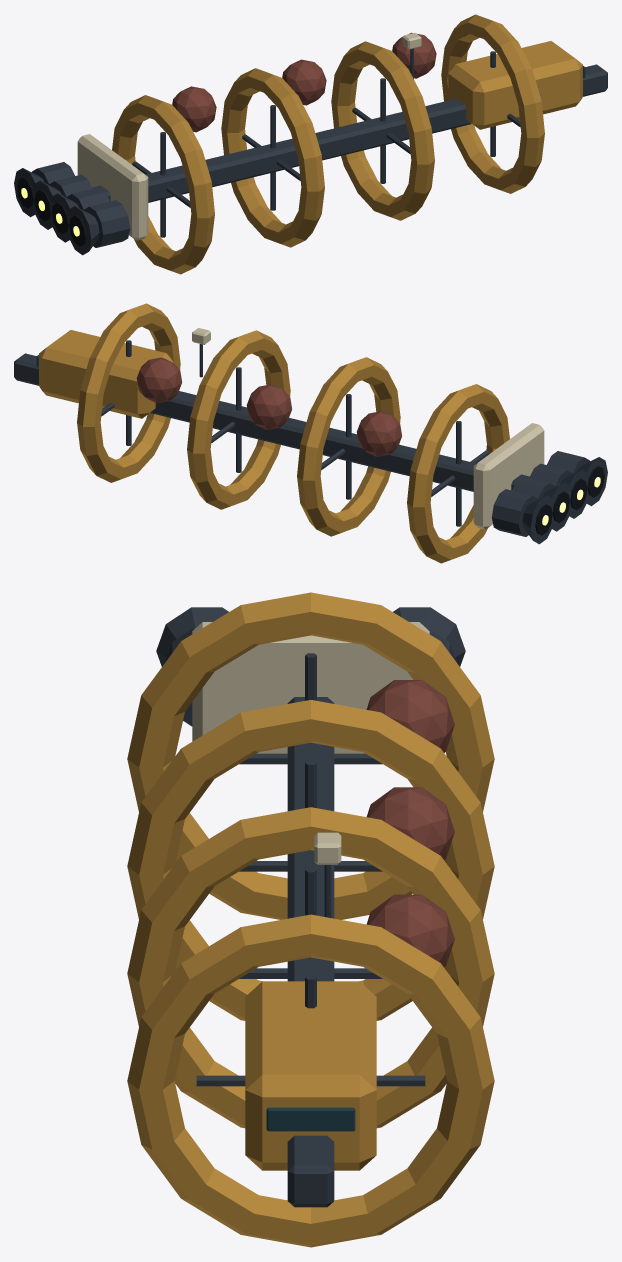
The model's file is borrowed-sea.glb.
The picture shows the model from 3 angles, top to bottom: view 1: azimuth 30°, elevation 25°; view 2: azimuth 150°, elevation 25°; view 3: azimuth 270°, elevation 25°; orthographic projection. The views are drawn at different scales.
Visible parts, largest first — view 1: habitat wheel.002, habitat wheel.001, structural spine, habitat wheel.003, habitat wheel, forward command, reactor shield, engine jacket, biome vault, biome vault.001, biome vault.002, engine bell (+10 smaller); view 2: habitat wheel.002, habitat wheel.001, habitat wheel.003, habitat wheel, structural spine, forward command, reactor shield, biome vault, biome vault.002, biome vault.001, engine jacket.003, engine bell.003 (+10 smaller); view 3: habitat wheel.003, habitat wheel.002, habitat wheel, habitat wheel.001, forward command, reactor shield, structural spine, biome vault.002, biome vault.001, biome vault, bridge glazing, engine bell (+2 smaller).
Part boxes in pixels (x1=…): habitat wheel.002: x1=331, y1=41, x2=434, y2=220; habitat wheel.001: x1=221, y1=68, x2=324, y2=247; structural spine: x1=50, y1=64, x2=607, y2=219; habitat wheel.003: x1=441, y1=14, x2=544, y2=193; habitat wheel: x1=112, y1=95, x2=214, y2=274; forward command: x1=448, y1=41, x2=582, y2=129; reactor shield: x1=77, y1=134, x2=148, y2=240; engine jacket: x1=84, y1=200, x2=130, y2=247; biome vault: x1=172, y1=86, x2=216, y2=132; biome vault.001: x1=282, y1=59, x2=326, y2=105; biome vault.002: x1=392, y1=32, x2=436, y2=78; engine bell: x1=67, y1=206, x2=99, y2=255; habitat wheel.002: x1=187, y1=330, x2=290, y2=509; habitat wheel.001: x1=297, y1=357, x2=400, y2=536; habitat wheel.003: x1=77, y1=303, x2=180, y2=482; habitat wheel: x1=407, y1=384, x2=509, y2=563; structural spine: x1=14, y1=353, x2=571, y2=508; forward command: x1=39, y1=330, x2=173, y2=418; reactor shield: x1=473, y1=423, x2=544, y2=529; biome vault: x1=356, y1=411, x2=401, y2=456; biome vault.002: x1=136, y1=357, x2=182, y2=403; biome vault.001: x1=246, y1=384, x2=291, y2=429; engine jacket.003: x1=491, y1=489, x2=537, y2=536; engine bell.003: x1=522, y1=495, x2=551, y2=544; habitat wheel.003: x1=127, y1=914, x2=494, y2=1247; habitat wheel.002: x1=127, y1=807, x2=494, y2=1128; habitat wheel: x1=127, y1=592, x2=494, y2=919; habitat wheel.001: x1=127, y1=700, x2=494, y2=1020; forward command: x1=245, y1=981, x2=376, y2=1170; reactor shield: x1=192, y1=622, x2=429, y2=753; structural spine: x1=287, y1=697, x2=334, y2=1207; biome vault.002: x1=366, y1=894, x2=454, y2=967; biome vault.001: x1=366, y1=787, x2=454, y2=860; biome vault: x1=366, y1=680, x2=454, y2=752; bridge glazing: x1=266, y1=1107, x2=355, y2=1131; engine bell: x1=156, y1=607, x2=228, y2=666.
Size of the model in its own units: 15.11 by 4.36 by 4.34.
